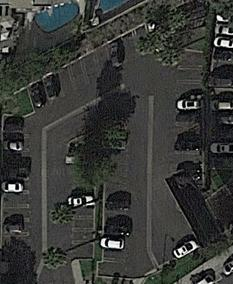parkingspot: (27, 22, 154, 117), (95, 148, 131, 281), (171, 48, 207, 175), (1, 114, 33, 239), (69, 183, 96, 262), (207, 95, 233, 171), (209, 14, 233, 89)
